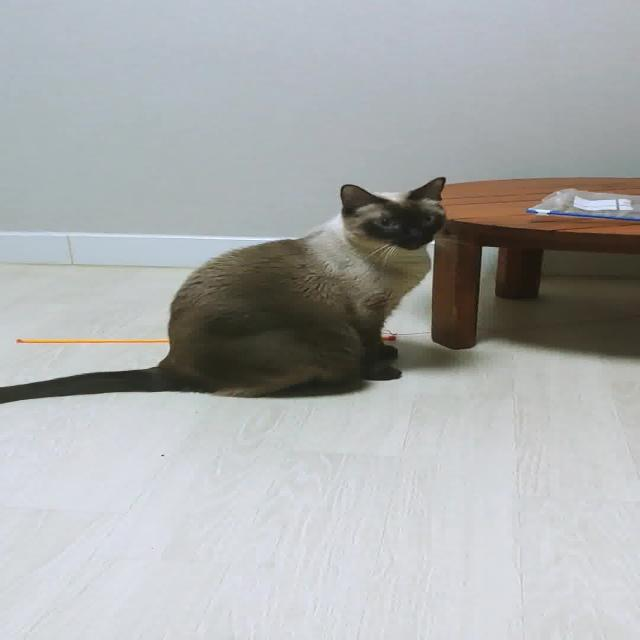cat: (0, 172, 466, 408)
